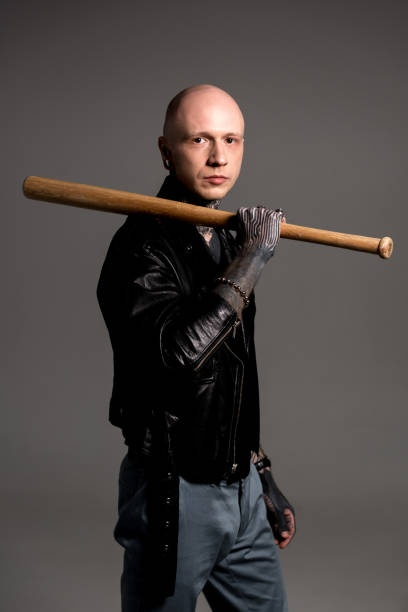bita: (21, 177, 394, 257)
